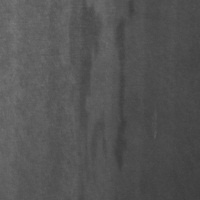inclusion: (71, 1, 110, 175), (109, 1, 135, 175)
